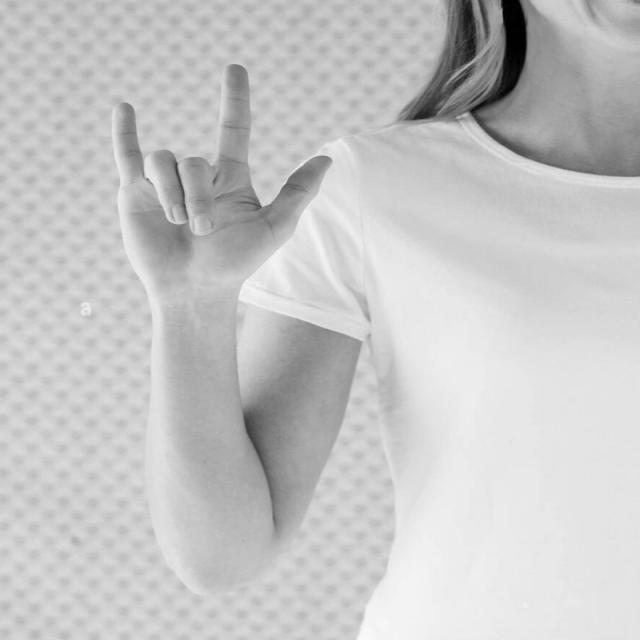i love you: (104, 55, 339, 322)
